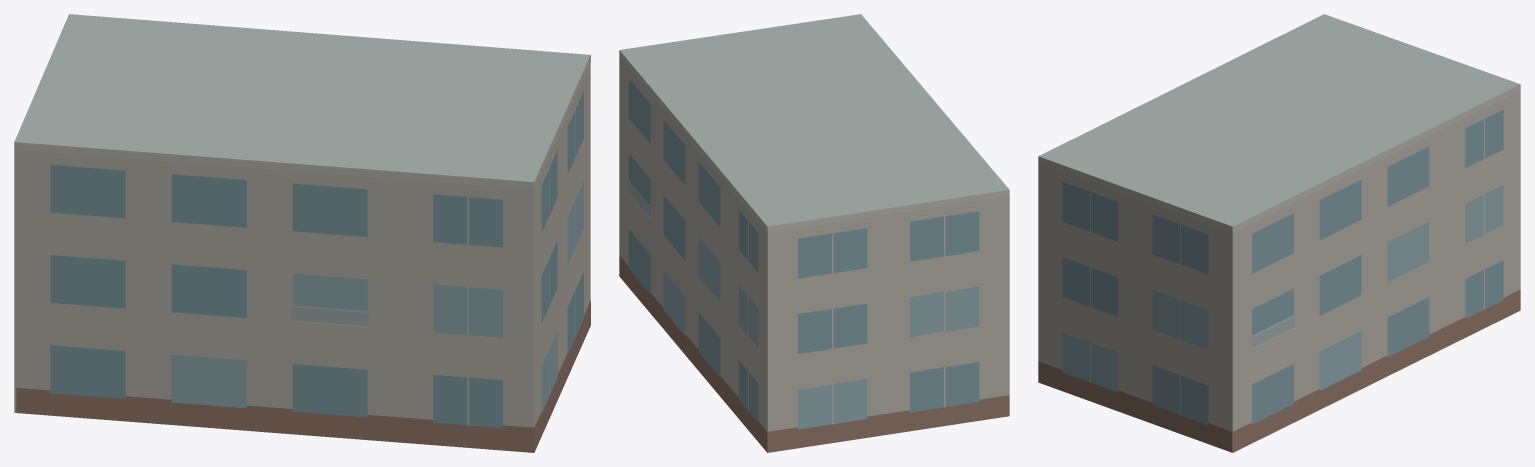
File: survey-upis-32883279.glb
3 renders of one model, left to right at view 1: azimuth 30°, elevation 25°; view 2: azimuth 150°, elevation 25°; view 3: azimuth 270°, elevation 25°, orthographic. The views are drawn at different scales.
Parts seen in each view (by area): view 1: survey-upis-32883279.tmp; view 2: survey-upis-32883279.tmp; view 3: survey-upis-32883279.tmp.
Boxes of the visible parts, x1,y1,x2,y2 form: survey-upis-32883279.tmp: [14, 14, 590, 452]; survey-upis-32883279.tmp: [619, 14, 1009, 452]; survey-upis-32883279.tmp: [1038, 14, 1520, 452].
Size of the model in its own units: 18.46 by 9.15 by 17.69.
